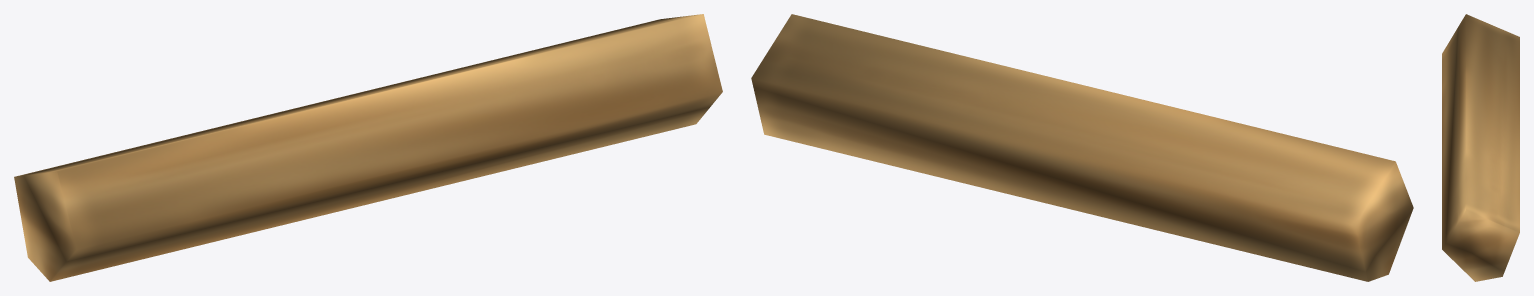
Rendered from Firewood_A.fbx.
The picture shows the model from 3 angles, left to right: view 1: azimuth 30°, elevation 25°; view 2: azimuth 150°, elevation 25°; view 3: azimuth 270°, elevation 25°; orthographic projection. The views are drawn at different scales.
Parts seen in each view (by area): view 1: U_Firewood_A; view 2: U_Firewood_A; view 3: U_Firewood_A.
Boxes of the visible parts, x1,y1,x2,y2 form: U_Firewood_A: (14,14,722,281); U_Firewood_A: (751,14,1413,281); U_Firewood_A: (1442,14,1519,281).
Bounding box in the file's own units: 120 × 20.59 × 20.17.
Materials: 1 (1 with a texture image).
